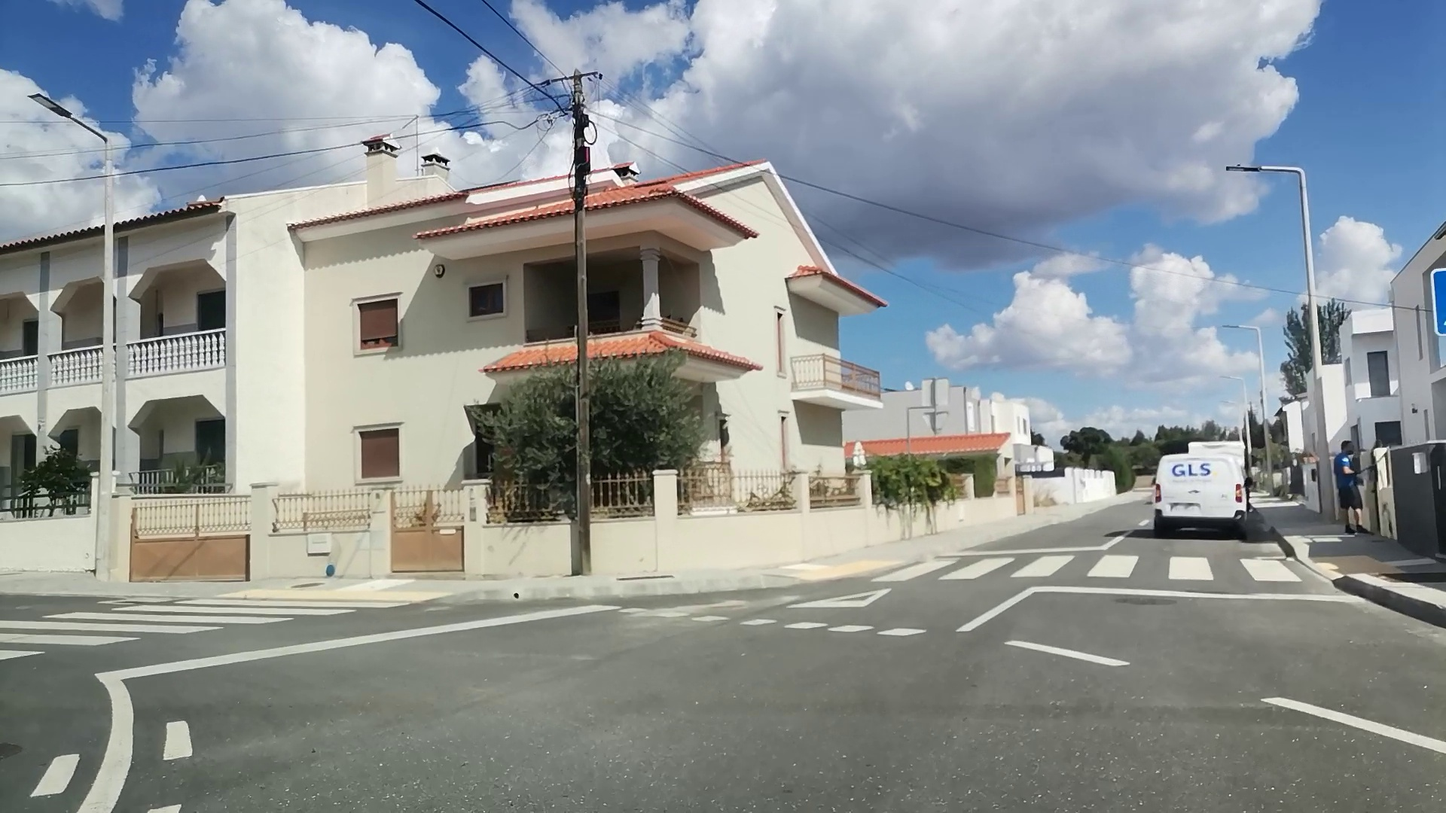Stairs: (0, 600, 358, 664), (881, 547, 1310, 590)
